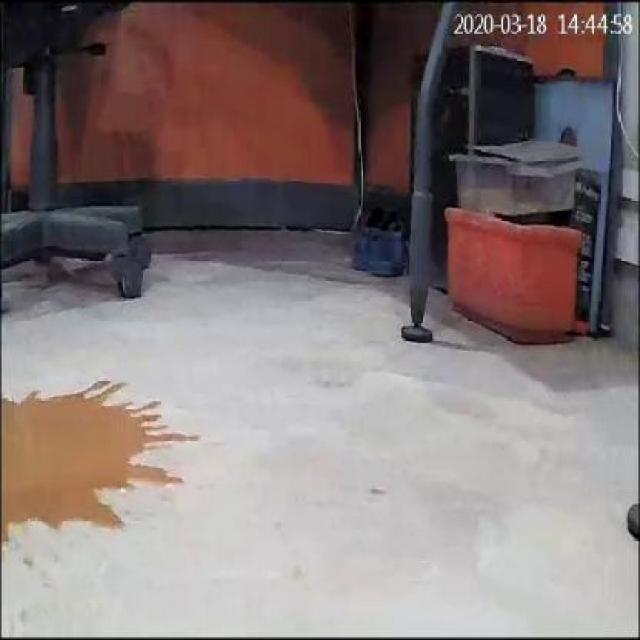spill: (3, 367, 196, 546)
